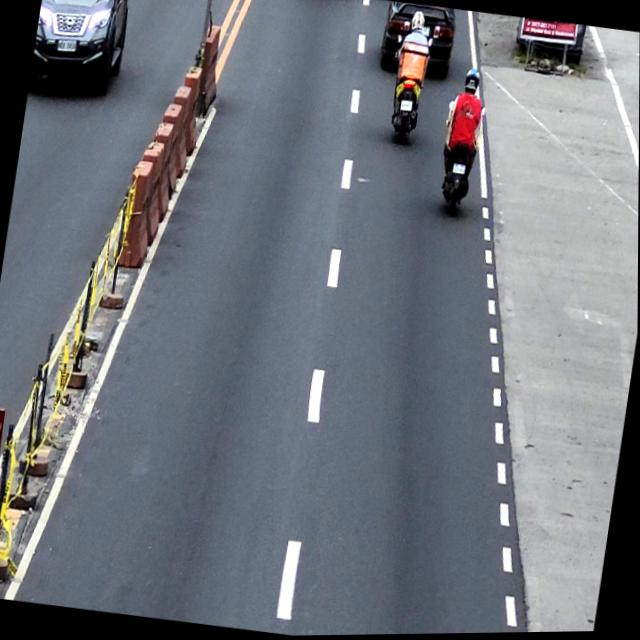Car: (376, 1, 459, 80)
License-Plate: (400, 101, 413, 114), (453, 164, 466, 177)
Motorcycle: (434, 100, 487, 220), (383, 35, 433, 146)
